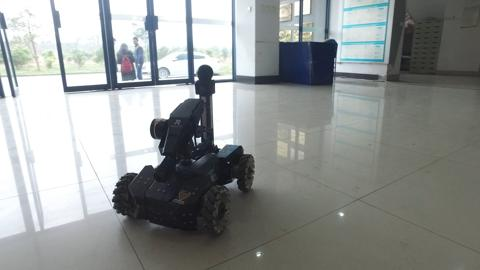chariot: (106, 61, 274, 240)
